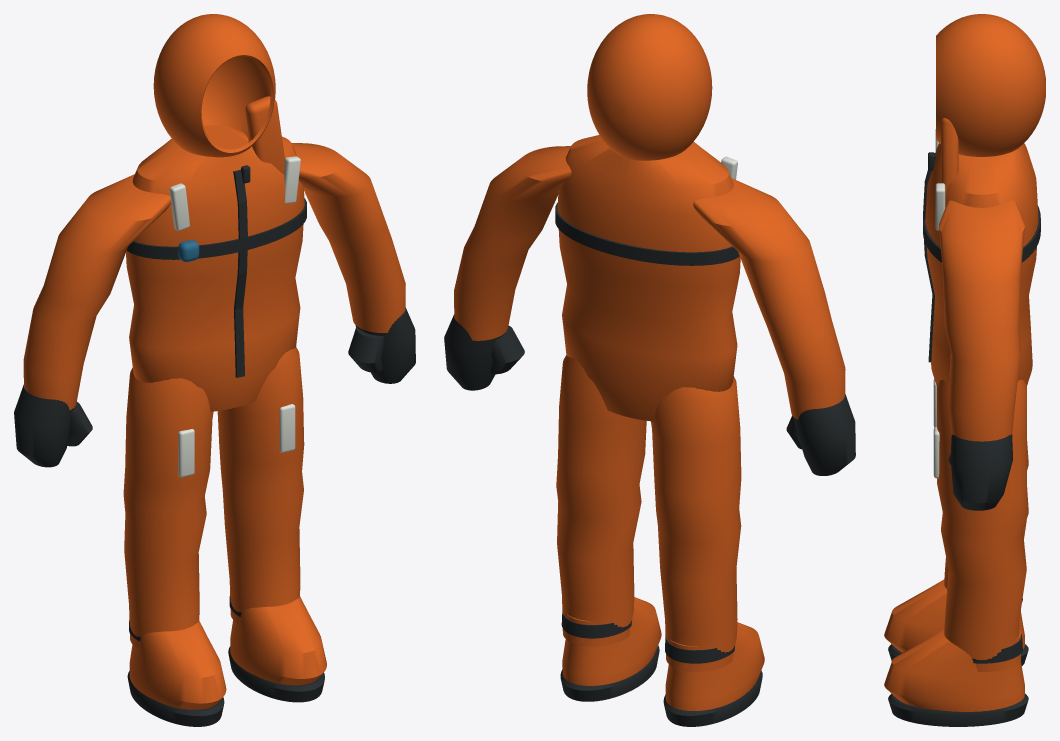
The model's file is A-NEW-20261026-IMMERSION-SURVIVAL-SUIT-001_LOD0_R2.glb.
3 views of the same model, side by side, from view 1: azimuth 30°, elevation 25°; view 2: azimuth 150°, elevation 25°; view 3: azimuth 270°, elevation 25° (orthographic). The views are drawn at different scales.
Visible parts, largest first — view 1: orange torso garment, integrated orange leg, integrated orange leg.001, long orange sleeve, empty hollow integrated hood, long orange sleeve.001, integrated boot foot, integrated boot foot.001, black mitten body, black chest strap, black mitten body.001, raised right neck flap (+8 smaller); view 2: orange torso garment, integrated orange leg, integrated orange leg.001, long orange sleeve, empty hollow integrated hood, long orange sleeve.001, integrated boot foot.001, integrated boot foot, black mitten body, black chest strap, black mitten body.001, dark closed sole (+4 smaller); view 3: long orange sleeve.001, integrated orange leg.001, empty hollow integrated hood, orange torso garment, integrated boot foot.001, black mitten body.001, integrated boot foot, dark closed sole.001, raised right neck flap, black chest strap, dark ankle band.001, shoulder pale patch.001 (+1 smaller).
Boxes of the visible parts, x1,y1,x2,y2 form: orange torso garment: [126, 125, 304, 411]; integrated orange leg: [123, 368, 213, 648]; integrated orange leg.001: [217, 347, 304, 623]; long orange sleeve: [23, 174, 171, 409]; empty hollow integrated hood: [153, 14, 275, 157]; long orange sleeve.001: [291, 143, 405, 332]; integrated boot foot: [129, 621, 226, 709]; integrated boot foot.001: [230, 596, 326, 685]; black mitten body: [14, 384, 73, 467]; black chest strap: [127, 198, 306, 259]; black mitten body.001: [355, 307, 415, 383]; raised right neck flap: [245, 96, 284, 173]; orange torso garment: [557, 135, 740, 421]; integrated orange leg: [651, 376, 741, 671]; integrated orange leg.001: [556, 355, 646, 646]; long orange sleeve: [693, 178, 845, 419]; empty hollow integrated hood: [587, 14, 712, 160]; long orange sleeve.001: [454, 146, 571, 340]; integrated boot foot.001: [562, 597, 661, 685]; integrated boot foot: [665, 622, 764, 710]; black mitten body: [793, 394, 855, 475]; black chest strap: [555, 202, 739, 265]; black mitten body.001: [444, 314, 504, 390]; dark closed sole: [663, 670, 762, 726]; long orange sleeve.001: [939, 200, 1024, 441]; integrated orange leg.001: [937, 379, 1028, 672]; empty hollow integrated hood: [936, 14, 1045, 156]; orange torso garment: [925, 143, 1038, 386]; integrated boot foot.001: [884, 629, 1024, 711]; black mitten body.001: [950, 434, 1012, 510]; integrated boot foot: [884, 579, 1024, 652]; dark closed sole.001: [888, 693, 1028, 726]; raised right neck flap: [941, 118, 958, 194]; black chest strap: [923, 206, 1040, 262]; dark ankle band.001: [972, 634, 1022, 663]; shoulder pale patch.001: [935, 183, 945, 230].
Size of the model in its own units: 1.17 by 1.88 by 0.4136.
